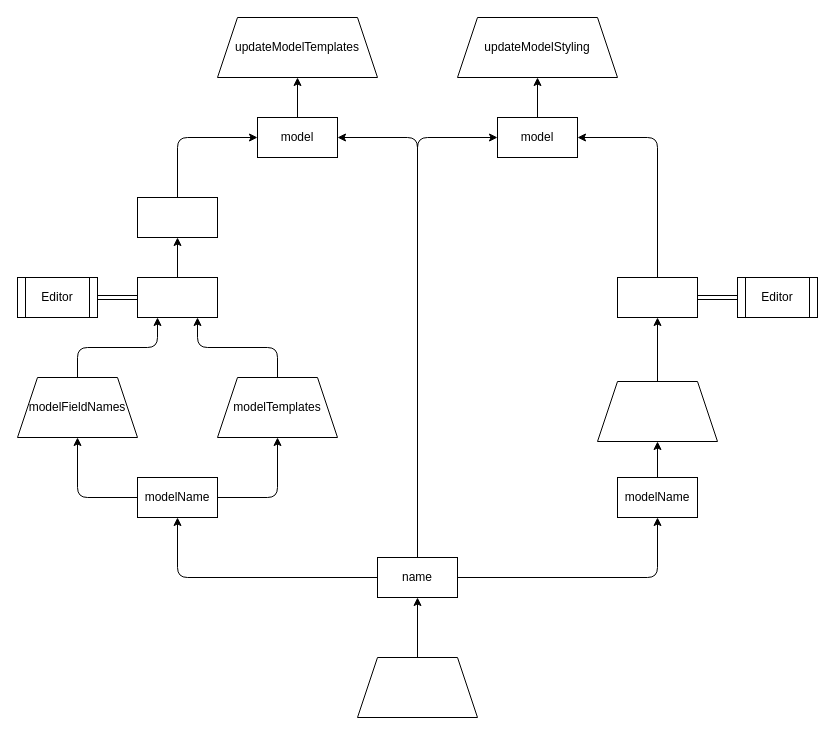
This 835x735 diagram has some shape labels left out. Here are the shapes that lost their labels. From the top down, the centre of each, then its label:
At (177,217): "templates".
At (177,297): "cards[]".
At (657,297): "css".
At (657,411): "modelStyling".
At (417,687): "modelNames".
